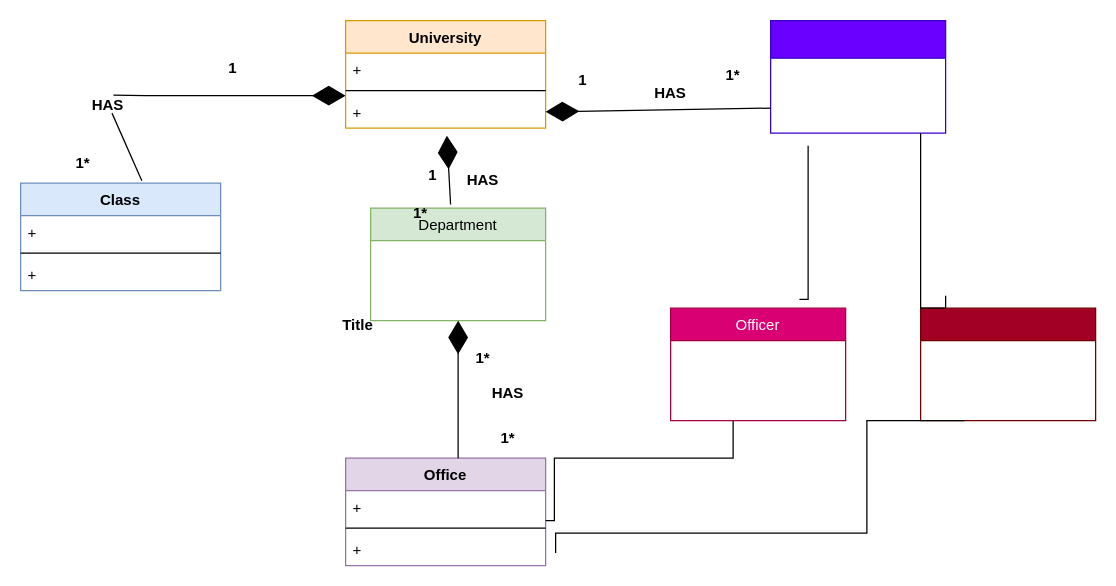
This 1116x586 diagram has some shape labels left out. The shapes that lost their labels are listed below. From the top down, each one's centre as x and y in pixels, then its label:
[857,76]: Employees
[1007,364]: Professor
